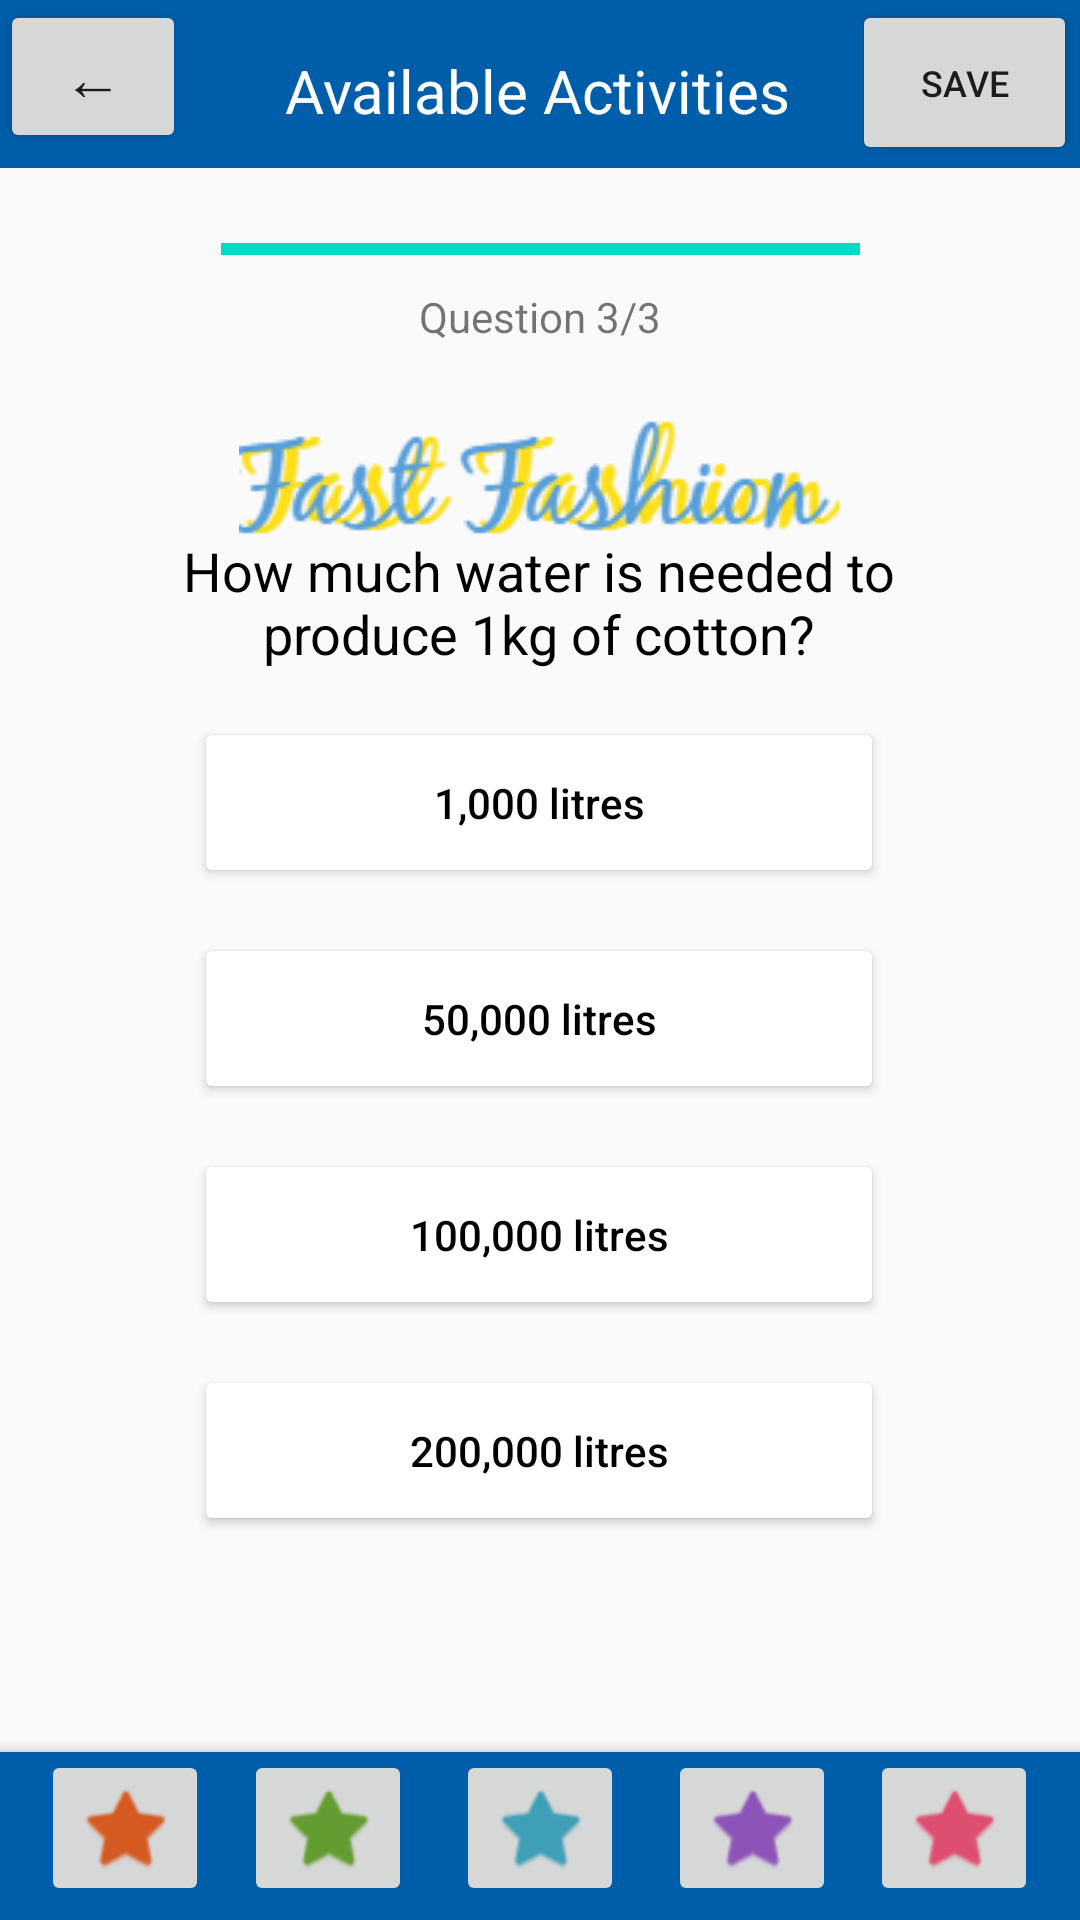

Where to tap for icons on this 1080*1920 app screen, as point (x, y):
star on: point (125, 1828), point (328, 1828), point (540, 1828), point (752, 1828), point (954, 1828)
